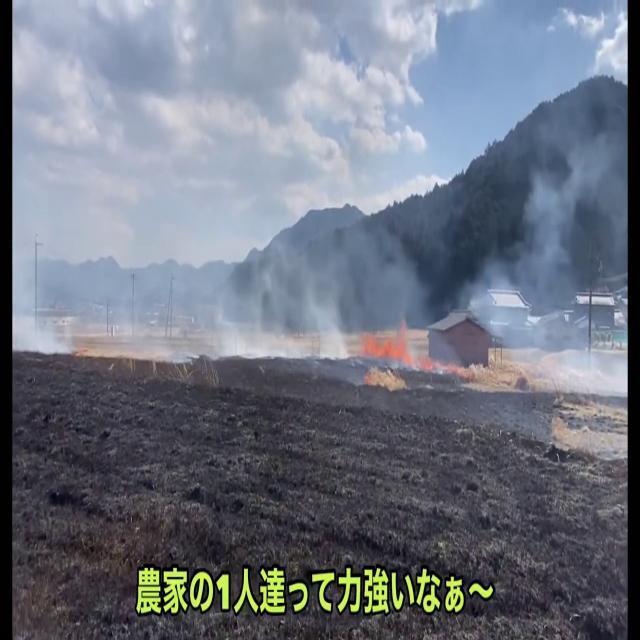Smoke: (474, 130, 640, 394), (213, 181, 432, 362)
